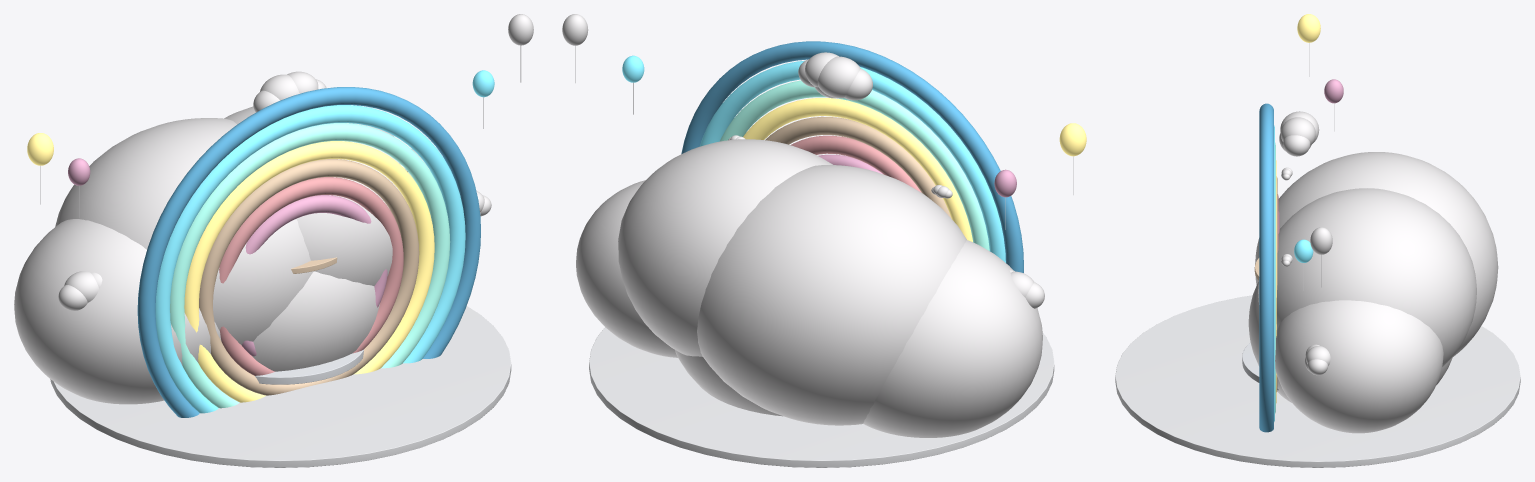
File: nemonic_themepark_asset.glb
3 renders of one model, left to right at view 1: azimuth 30°, elevation 25°; view 2: azimuth 150°, elevation 25°; view 3: azimuth 270°, elevation 25°, orthographic. The views are drawn at different scales.
Visible parts, largest first — view 1: CloudBank, Floor, Rainbow_0, Rainbow_1, Rainbow_2, Rainbow_3, Rainbow_4, Rainbow_5, Rainbow_6, StageBase, ArchCloudCenter, SideCloudLeft (+2 smaller); view 2: CloudBank, Floor, Rainbow_0, Rainbow_1, Rainbow_2, Rainbow_3, Rainbow_4, ArchCloudCenter, Rainbow_5, BalloonLeftA_Body, SideCloudLeft, BalloonRightA_Body; view 3: CloudBank, Floor, Rainbow_0, ArchCloudCenter, SideCloudRight, BalloonLeftA_Body, BalloonRightA_Body, StageBase.
Boxes of the visible parts, <box> form: CloudBank: <box>14,106,429,404</box>; Floor: <box>50,306,511,467</box>; Rainbow_0: <box>137,87,480,417</box>; Rainbow_1: <box>155,105,465,413</box>; Rainbow_2: <box>170,123,450,408</box>; Rainbow_3: <box>184,141,434,402</box>; Rainbow_4: <box>199,159,419,395</box>; Rainbow_5: <box>219,177,403,375</box>; Rainbow_6: <box>242,195,387,356</box>; StageBase: <box>255,349,363,384</box>; ArchCloudCenter: <box>253,71,326,112</box>; SideCloudLeft: <box>58,271,102,310</box>; CloudBank: <box>576,139,1042,437</box>; Floor: <box>589,327,1054,467</box>; Rainbow_0: <box>681,41,1023,272</box>; Rainbow_1: <box>700,60,1005,262</box>; Rainbow_2: <box>719,80,989,250</box>; Rainbow_3: <box>743,98,972,241</box>; Rainbow_4: <box>765,116,951,218</box>; ArchCloudCenter: <box>798,52,872,100</box>; Rainbow_5: <box>790,135,921,192</box>; BalloonLeftA_Body: <box>1059,123,1086,156</box>; SideCloudLeft: <box>1009,269,1044,308</box>; BalloonRightA_Body: <box>562,14,588,45</box>; CloudBank: <box>1248,152,1498,433</box>; Floor: <box>1115,295,1520,467</box>; Rainbow_0: <box>1259,103,1273,432</box>; ArchCloudCenter: <box>1279,111,1319,156</box>; SideCloudRight: <box>1304,344,1330,375</box>; BalloonLeftA_Body: <box>1297,14,1320,42</box>; BalloonRightA_Body: <box>1310,227,1332,254</box>; StageBase: <box>1242,342,1278,390</box>.
Size of the model in its own units: 11.6 by 7.84 by 9.1.
